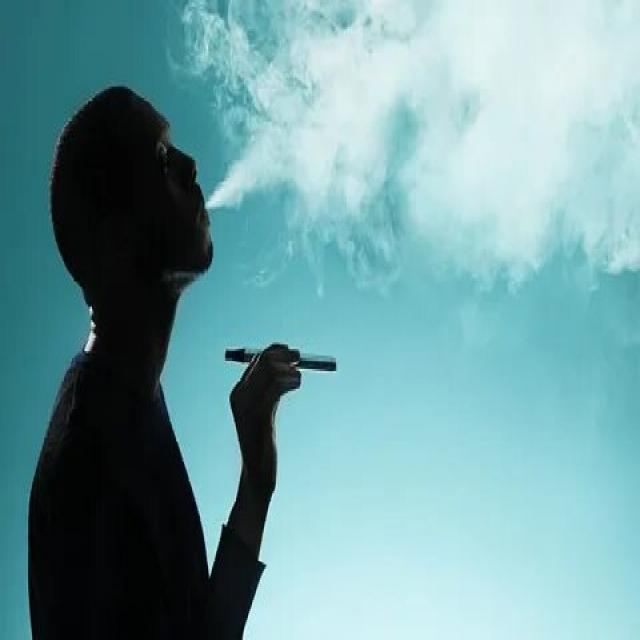smoke: (225, 340, 340, 378)
